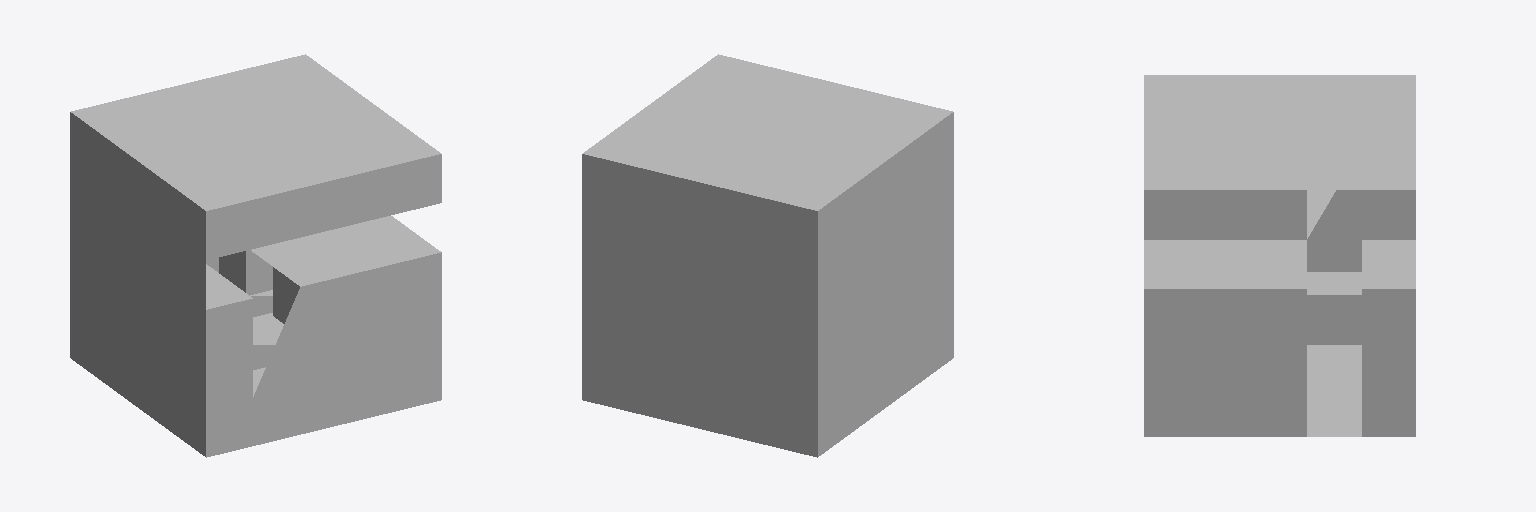
File: gestalt_cube_cut_3.obj
3 views of the same model, side by side, from view 1: azimuth 30°, elevation 25°; view 2: azimuth 150°, elevation 25°; view 3: azimuth 270°, elevation 25° (orthographic).
Visible parts, largest first — view 1: Mesh1 Group1 Model; view 2: Mesh1 Group1 Model; view 3: Mesh1 Group1 Model.
Part boxes in pixels (left/top/right/bottom): Mesh1 Group1 Model: left=70, top=54, right=441, bottom=457; Mesh1 Group1 Model: left=582, top=54, right=953, bottom=457; Mesh1 Group1 Model: left=1144, top=75, right=1415, bottom=436.
Bounding box in the file's own units: 181 × 181 × 181.